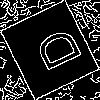D: (25, 25, 83, 78)
